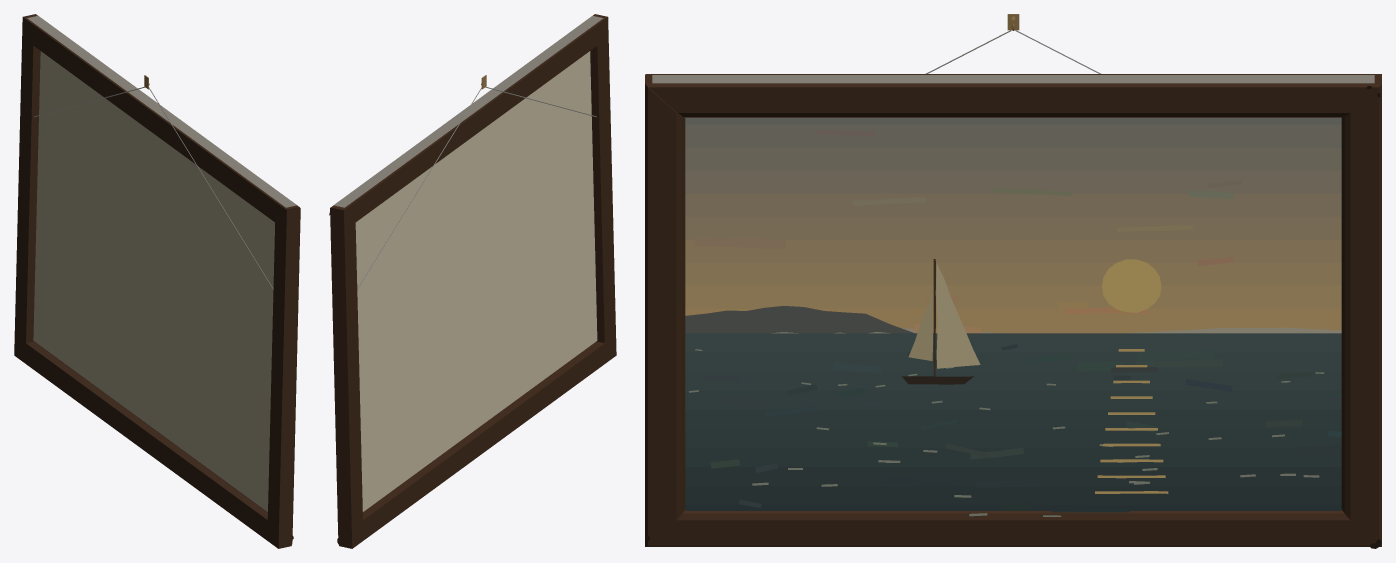
Rendered from painting_b.glb.
3 renders of one model, left to right at view 1: azimuth 30°, elevation 25°; view 2: azimuth 150°, elevation 25°; view 3: azimuth 270°, elevation 25°, orthographic. The views are drawn at different scales.
Visible parts, largest first — view 1: bild, aufhaengung; view 2: bild, aufhaengung; view 3: bild.
Part boxes in pixels (x1,y1,x2,y2): bild: (14, 14, 300, 548); aufhaengung: (34, 75, 273, 289); bild: (329, 14, 616, 548); aufhaengung: (357, 75, 596, 289); bild: (645, 74, 1381, 548).
Size of the model in its own units: 0.073 by 0.7936 by 1.01.
